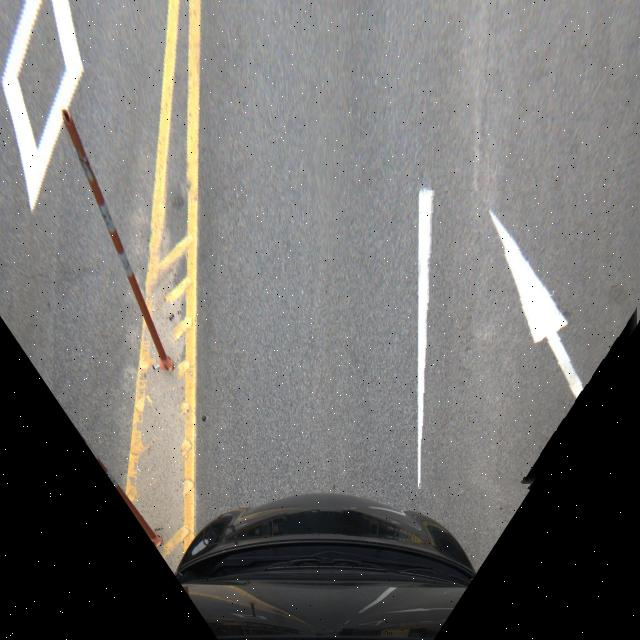chang_lane_left: (419, 191, 640, 491)
